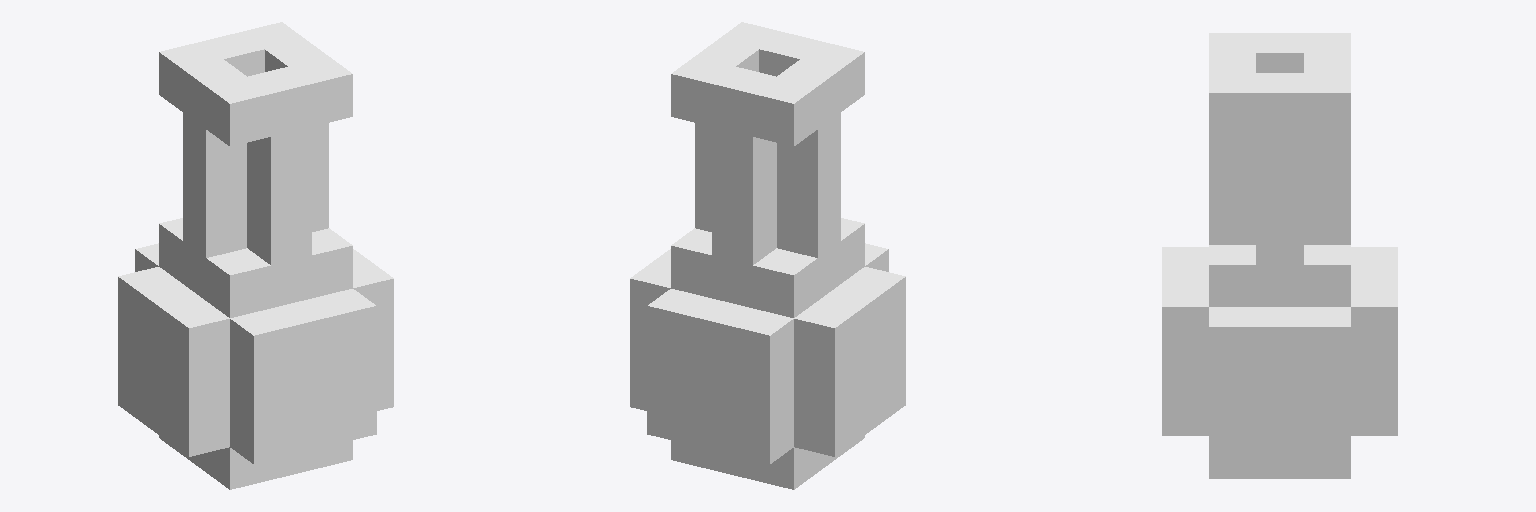
File: Vile.obj
The picture shows the model from 3 angles: view 1: azimuth 30°, elevation 25°; view 2: azimuth 150°, elevation 25°; view 3: azimuth 270°, elevation 25°; orthographic projection.
Parts seen in each view (by area): view 1: object 1; view 2: object 1; view 3: object 1.
Part boxes in pixels (x1,y1,x2,y2): object 1: (118,22,393,489); object 1: (630,22,905,489); object 1: (1162,33,1397,478).
Size of the model in its own units: 0.5 by 0.9 by 0.5.